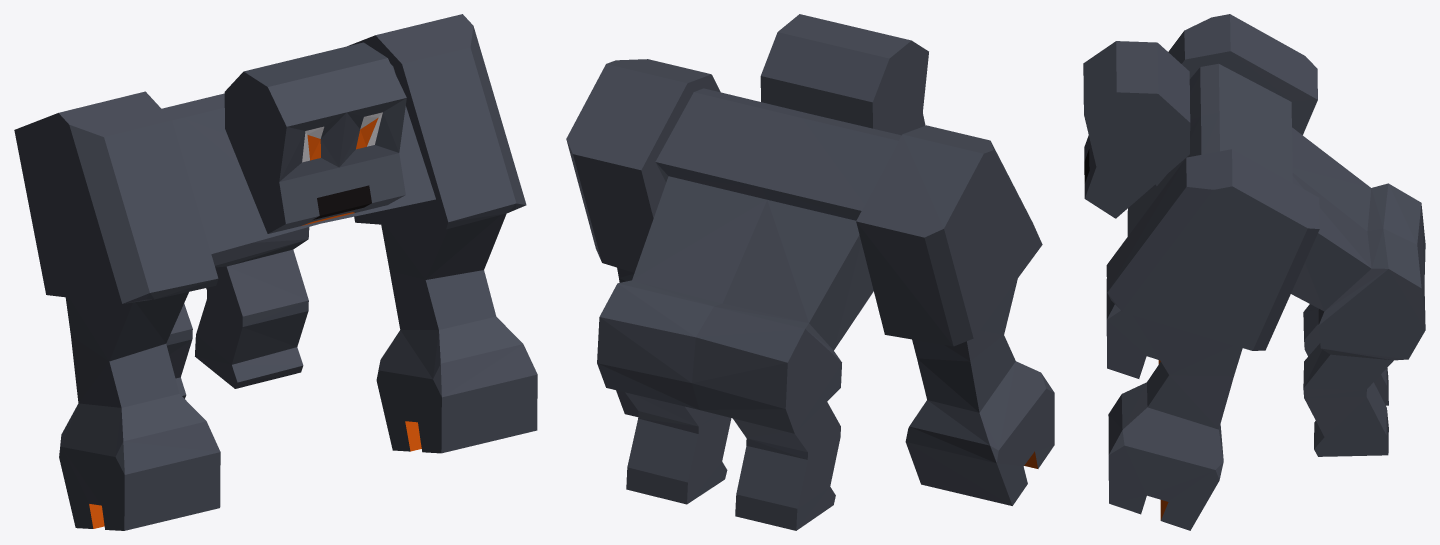
File: kong_000031.obj
The picture shows the model from 3 angles, left to right: view 1: azimuth 30°, elevation 25°; view 2: azimuth 150°, elevation 25°; view 3: azimuth 270°, elevation 25°; orthographic projection. The views are drawn at different scales.
Parts seen in each view (by area): view 1: Cube; view 2: Cube; view 3: Cube.
Boxes of the visible parts, <box> form: Cube: <box>14,14,537,530</box>; Cube: <box>566,14,1054,530</box>; Cube: <box>1083,14,1425,530</box>.
Size of the model in its own units: 5.85 by 5.85 by 4.8.
1 material, 1 textured.
